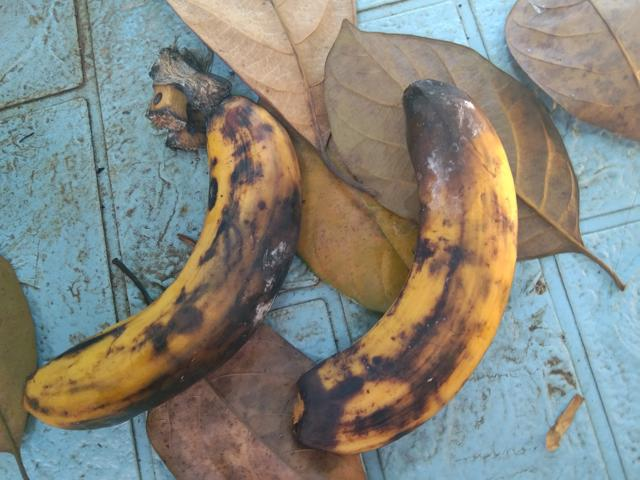rotten: (0, 80, 308, 449), (274, 71, 529, 473)
